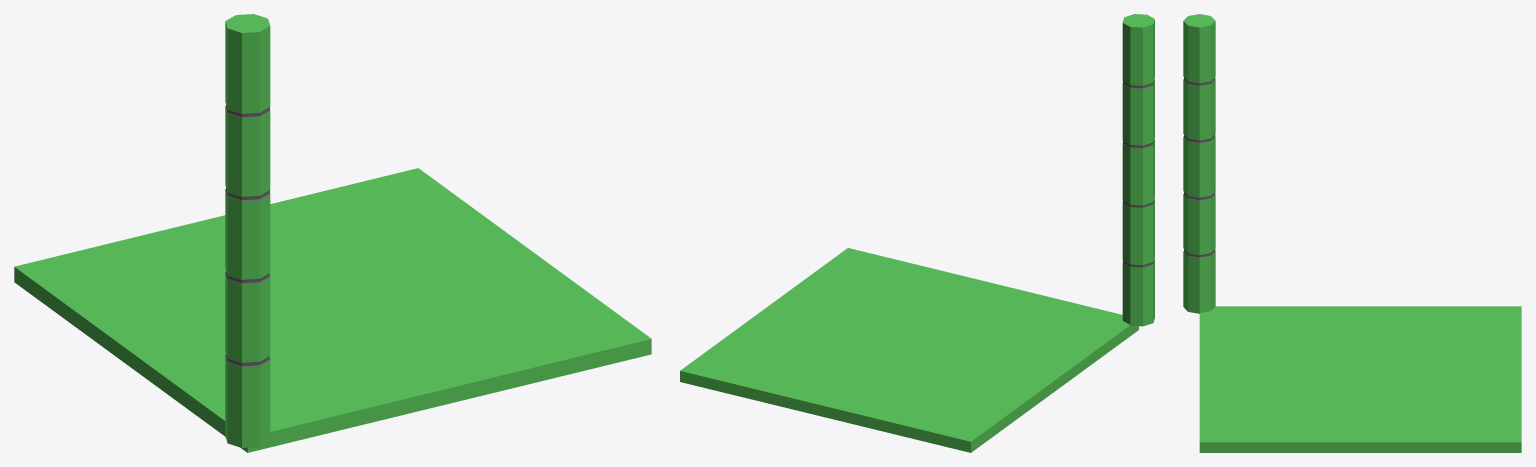
Rendered from FloortTile.fbx.
3 renders of one model, left to right at view 1: azimuth 30°, elevation 25°; view 2: azimuth 150°, elevation 25°; view 3: azimuth 270°, elevation 25°, orthographic. The views are drawn at different scales.
Visible parts, largest first — view 1: FloorG.002; view 2: FloorG.002; view 3: FloorG.002.
Boxes of the visible parts, x1=… form: FloorG.002: x1=14, y1=14, x2=651, y2=452; FloorG.002: x1=680, y1=14, x2=1154, y2=452; FloorG.002: x1=1183, y1=14, x2=1521, y2=452.
Size of the model in its own units: 210 by 203 by 210.
